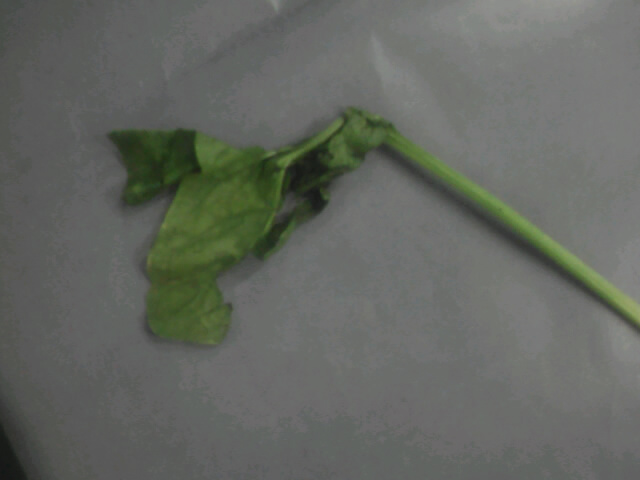yellow: (88, 49, 451, 367)
